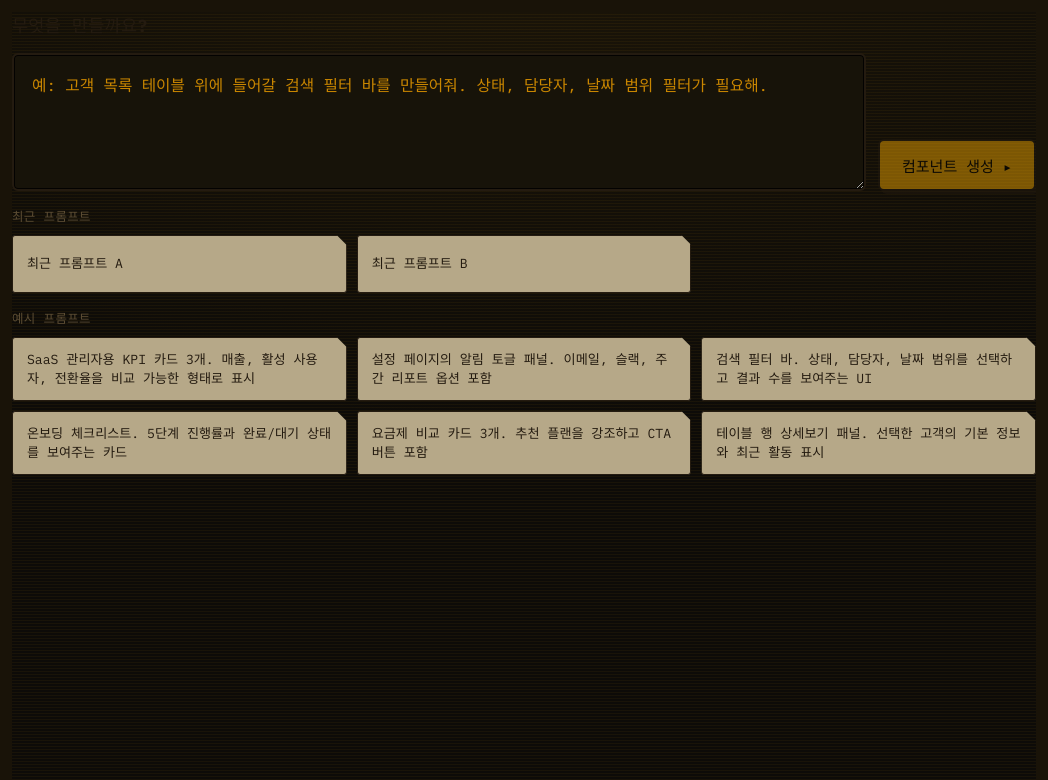
Test case: PromptInput › history가 있으면 최근 프롬프트 칩을 보여주고 클릭하면 입력창에 채워진다
expect the text "최근 프롬프트" is shown: met, box [12,208,91,224]
Click the button "최근 프롬프트 A" at point(75, 264), box [12,235,347,293]
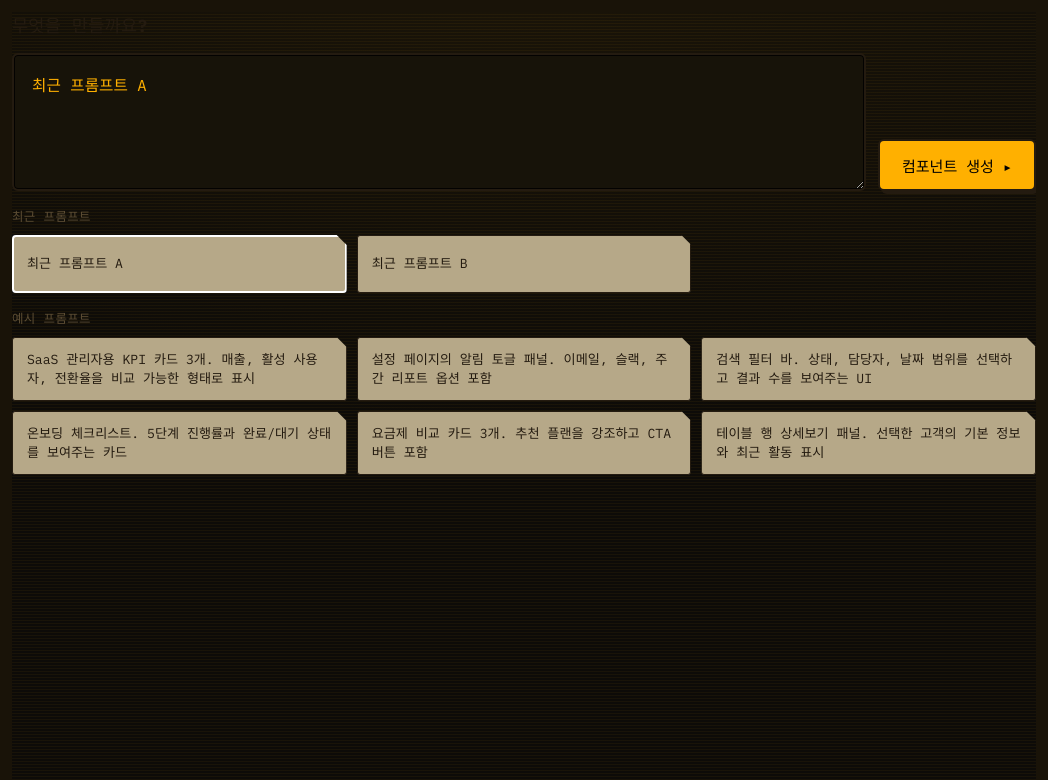
expect the text box holds "최근 프롬프트 A": met, box [12,53,866,191]
